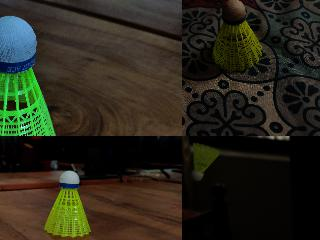shuttlecock: (0, 16, 57, 135), (211, 0, 262, 72), (42, 170, 90, 236), (192, 142, 220, 182)
